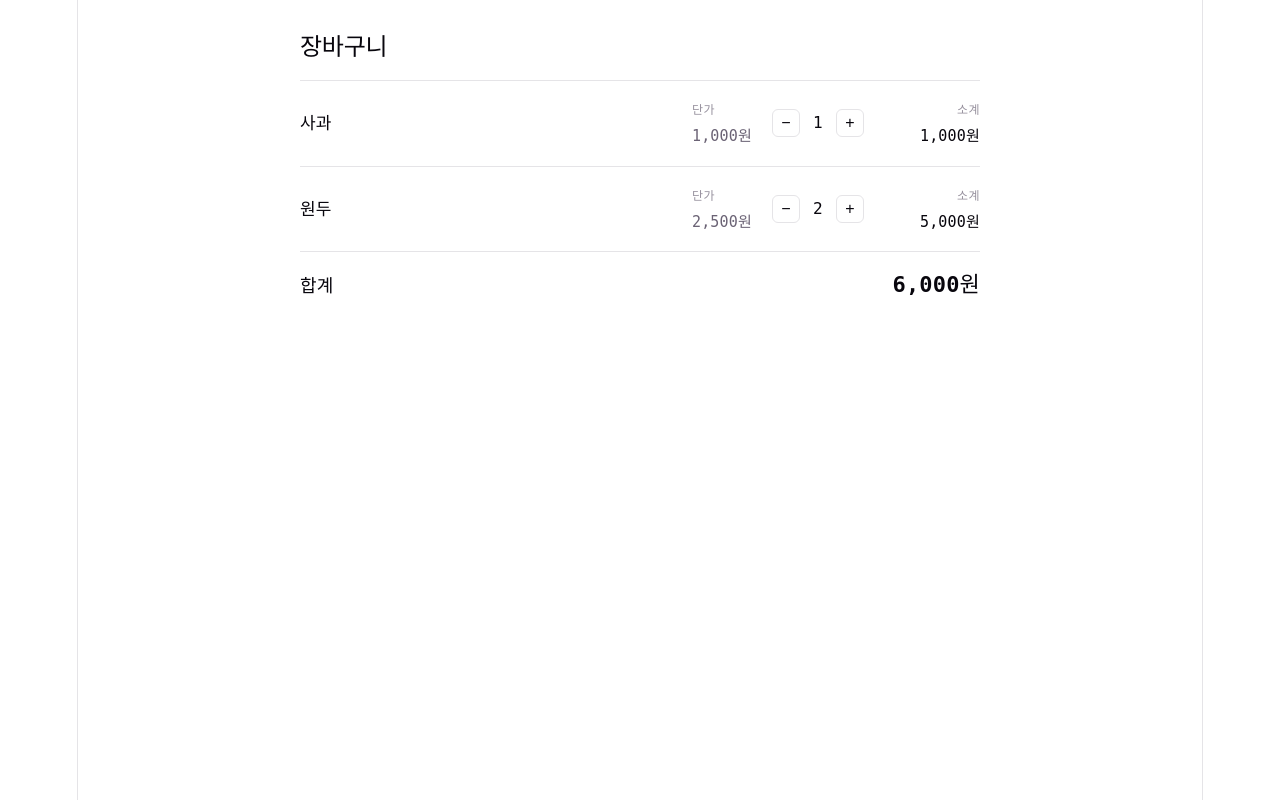
Scenario: 수량 0 = 담긴 항목이 아님 › 수량 1에서 − 를 누르면 그 줄이 사라지고 합계에서 빠진다 (S8)
Click the button named "사과 수량 줄이기". click: [786, 123]
box: [772,109,800,137]
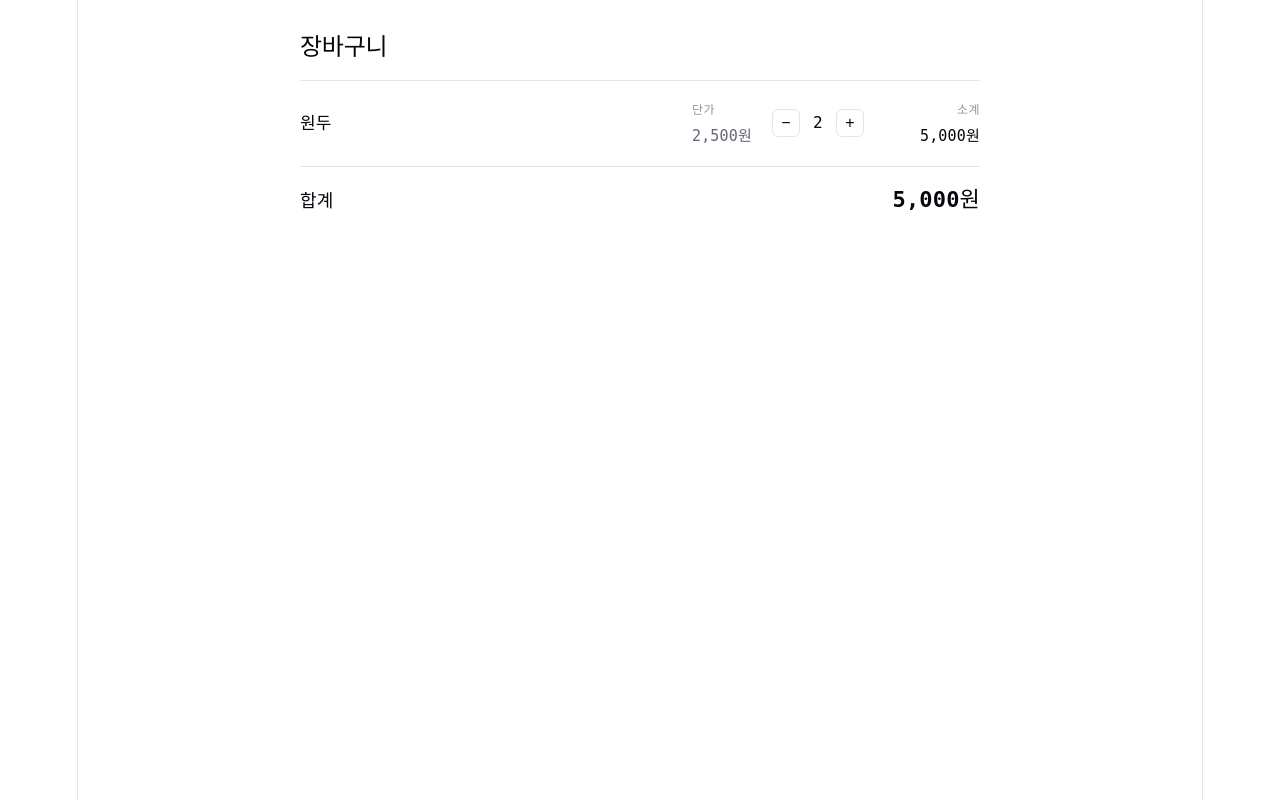
Now the text "사과" is gone
Now the number of list items is 1, box [300,81,980,166]
Now the text "5,000원" is shown, box [892,186,980,213]
